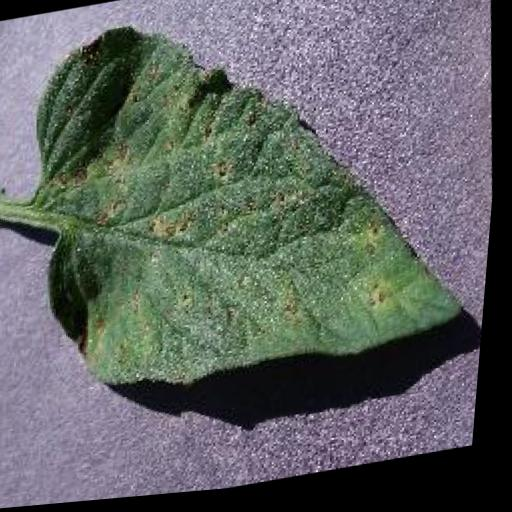Septoria: (7, 0, 490, 417)
